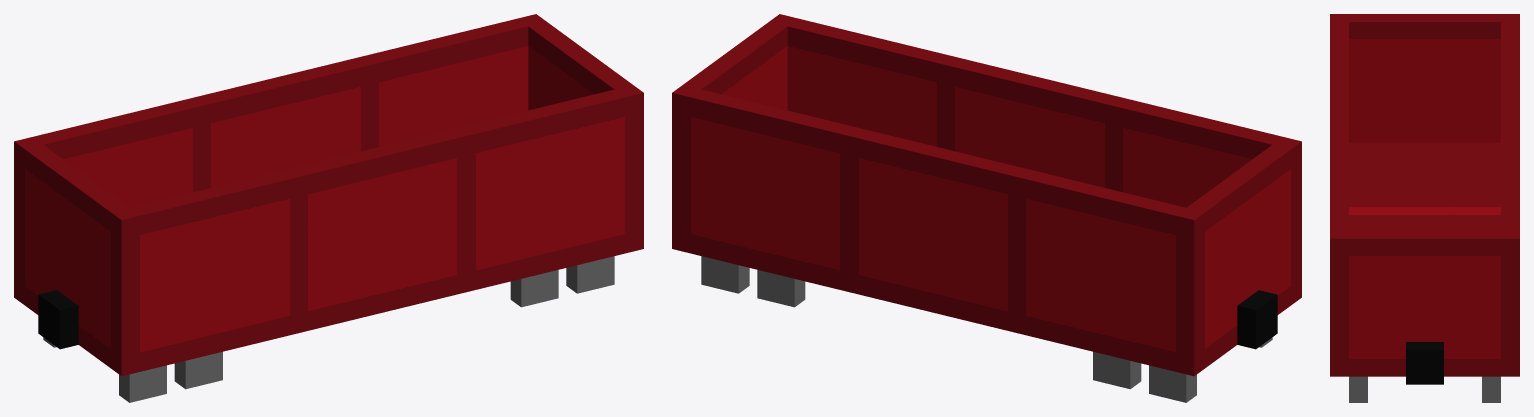
The model's file is car_box_open_red.dae.
The picture shows the model from 3 angles, left to right: view 1: azimuth 30°, elevation 25°; view 2: azimuth 150°, elevation 25°; view 3: azimuth 270°, elevation 25°; orthographic projection. The views are drawn at different scales.
Parts seen in each view (by area): view 1: car_box_open_red; view 2: car_box_open_red; view 3: car_box_open_red.
Part boxes in pixels (x1,y1,x2,y2): car_box_open_red: (14, 14, 643, 402); car_box_open_red: (672, 14, 1301, 402); car_box_open_red: (1330, 14, 1519, 402).
Bounding box in the file's own units: 3 × 1 × 1.
1 material, 1 textured.
